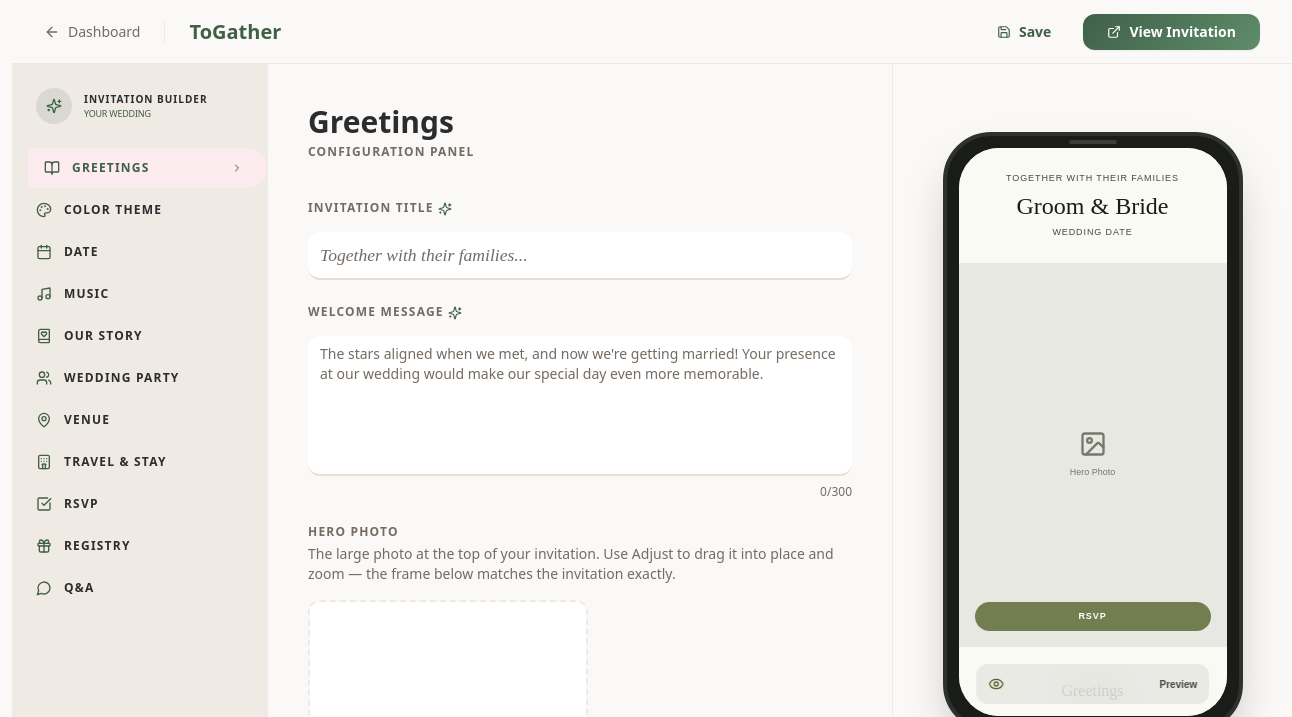
it: Color Theme tab › replaces the Color and Font tabs with one Color Theme tab
Expected: the heading "Invitation Title" is shown, [308,199,452,216]
Expected: the button does not show "Color"
Click the button "Color Theme" at (140, 210), box [12,190,267,230]
(page scrolled)
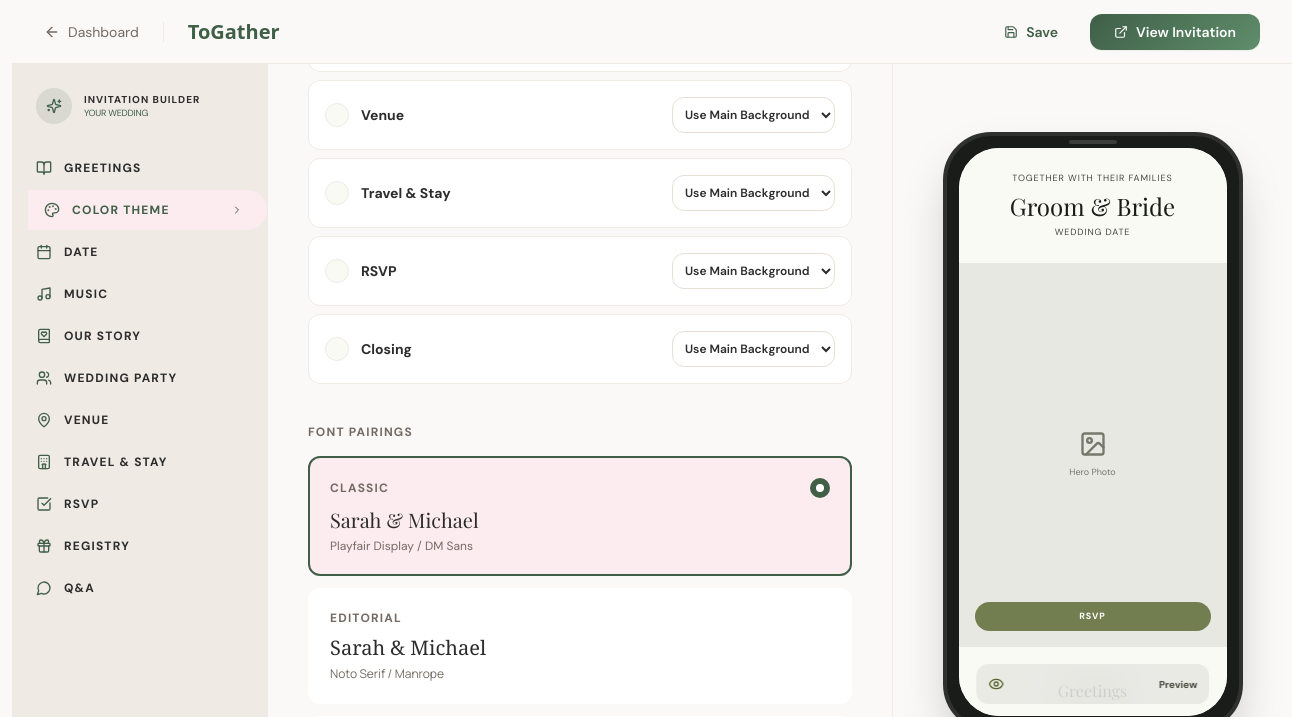
Now the heading "Font Pairings" is shown, box [308,424,413,440]
